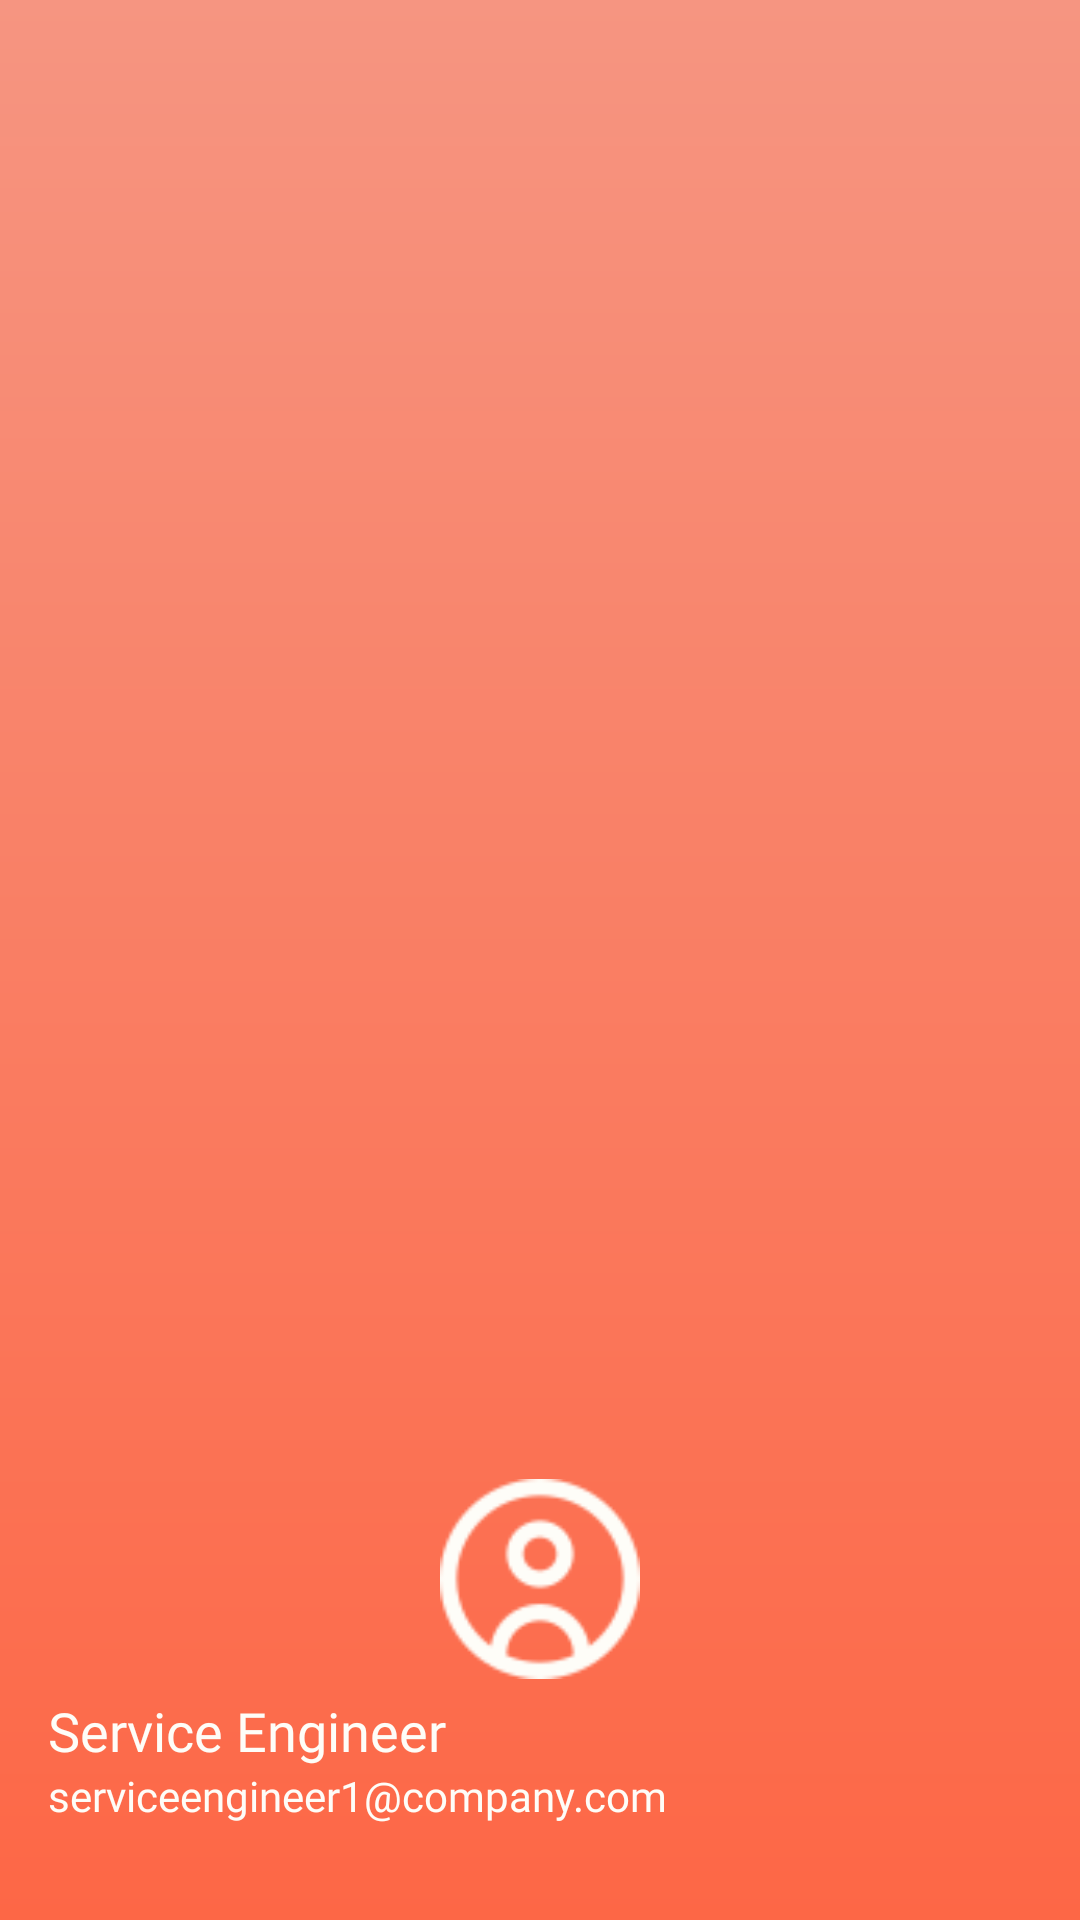

Where icons sit on this 1080×1920 app screen, as [x1, y1, x2, y2]:
user bit: [440, 1479, 640, 1679]
